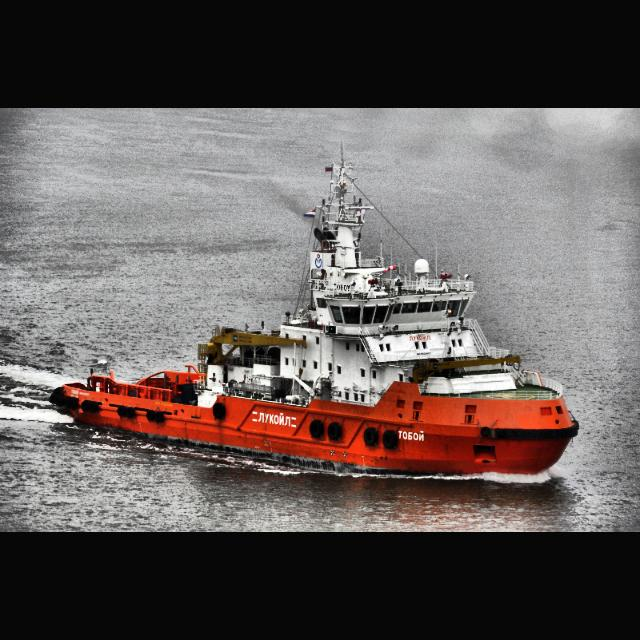anchor_handling_tug_supply: (49, 222, 582, 484)
